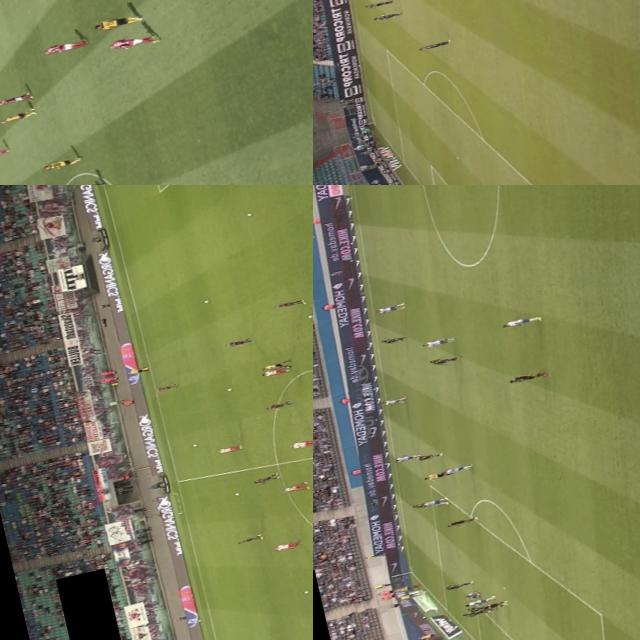ball: (242, 210, 255, 217), (201, 297, 211, 303), (224, 386, 234, 392), (302, 587, 310, 593), (191, 441, 199, 446), (233, 491, 241, 496), (306, 313, 313, 317)
player: (106, 29, 158, 54), (90, 12, 143, 34), (40, 38, 91, 57), (496, 309, 544, 329), (502, 367, 546, 388), (418, 332, 458, 350), (0, 108, 38, 125), (0, 90, 35, 108), (44, 154, 82, 170), (376, 330, 411, 347), (441, 461, 478, 477), (441, 514, 479, 528), (372, 301, 407, 316), (416, 38, 452, 52), (392, 449, 422, 465), (412, 494, 442, 510), (419, 494, 450, 509), (274, 296, 307, 310), (426, 353, 458, 367), (442, 579, 476, 592), (281, 480, 313, 493), (462, 594, 496, 606), (266, 397, 295, 411), (287, 435, 313, 449), (416, 449, 443, 462), (273, 538, 302, 550), (252, 472, 280, 484), (224, 336, 252, 348), (238, 532, 268, 543), (379, 394, 406, 406), (372, 9, 398, 21), (462, 607, 488, 619), (152, 382, 182, 392), (362, 0, 394, 9), (482, 600, 508, 610), (466, 602, 488, 612), (467, 590, 482, 602), (0, 145, 8, 160)
